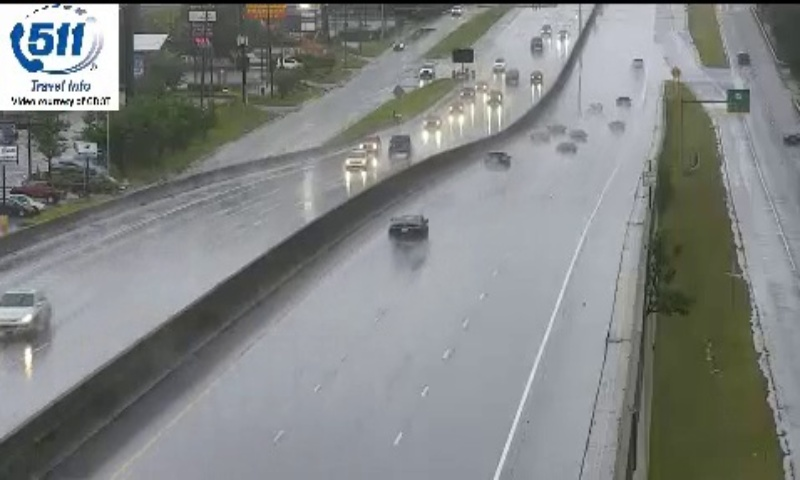car: (387, 214, 429, 244)
